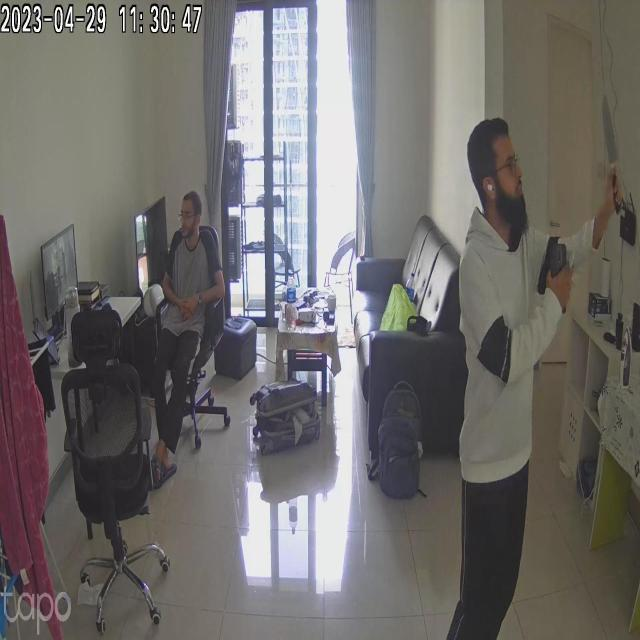Knife: (585, 80, 629, 208)
